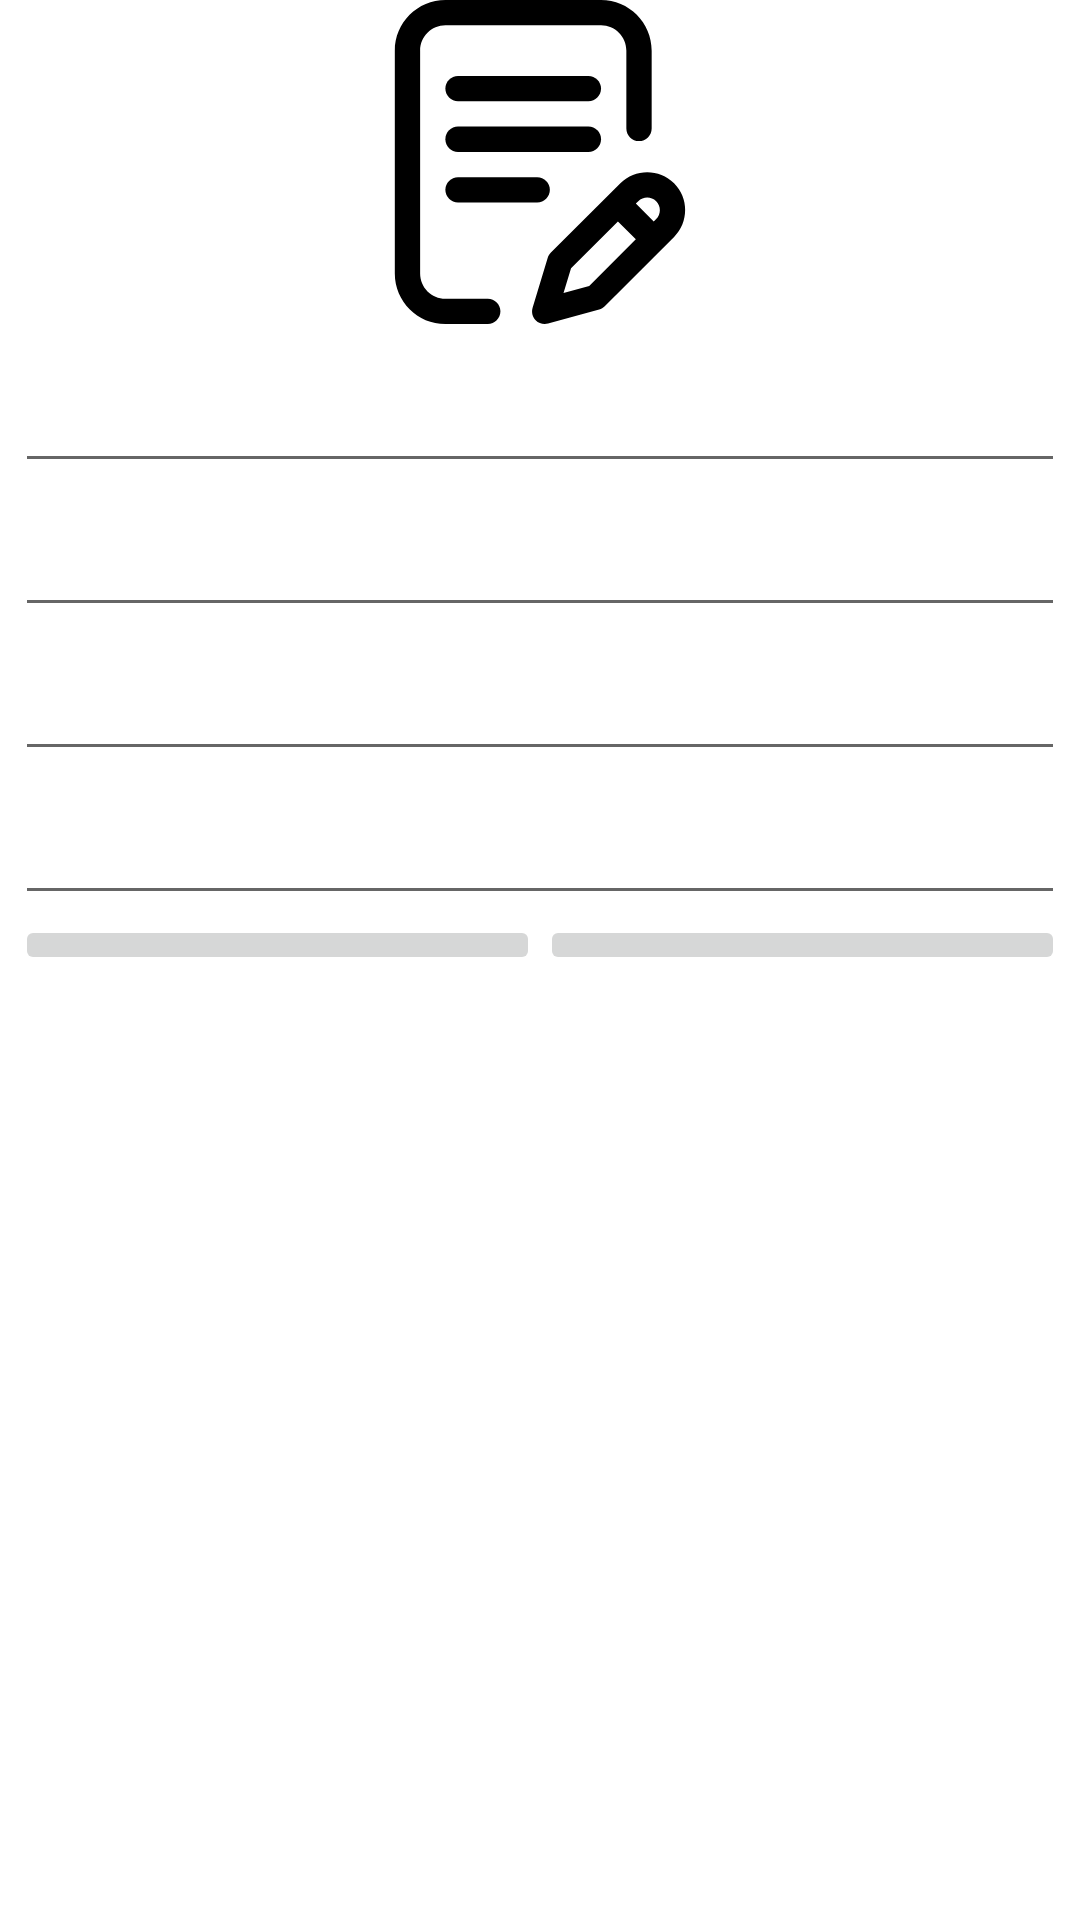

Screen size 1080px×1920px. Icon name, then its center in pixels as (x=x, y=y):
editar: (x=540, y=162)
